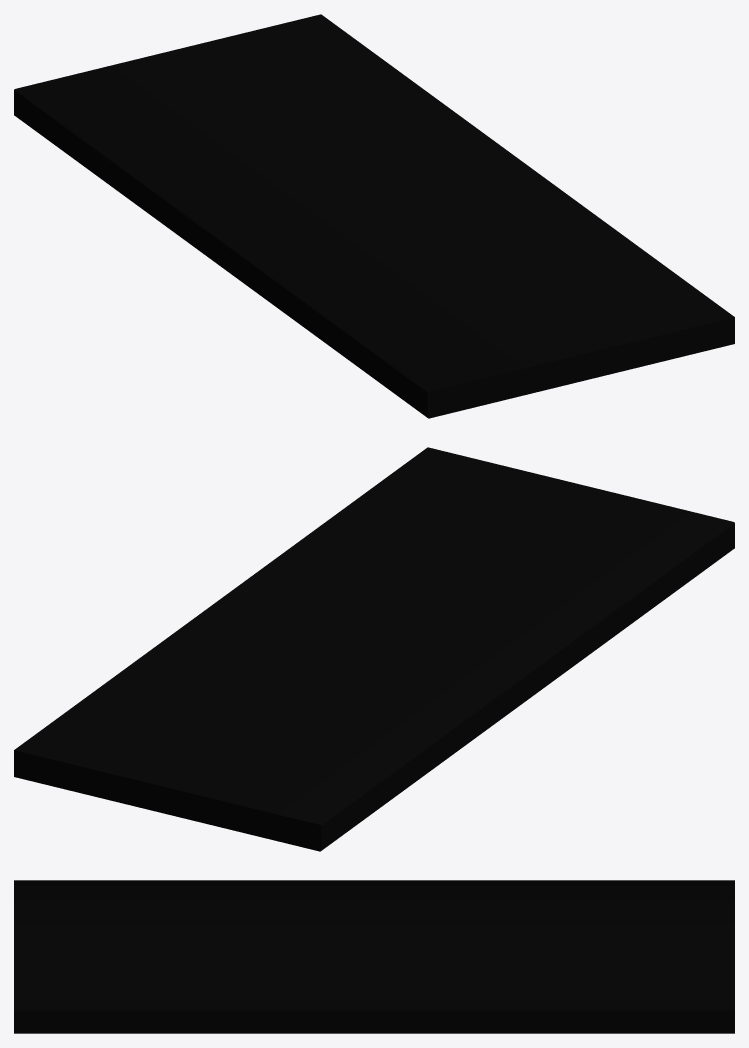
The picture shows the model from 3 angles, top to bottom: view 1: azimuth 30°, elevation 25°; view 2: azimuth 150°, elevation 25°; view 3: azimuth 270°, elevation 25°; orthographic projection. The views are drawn at different scales.
Parts seen in each view (by area): view 1: Joint_0_Object_0; view 2: Joint_0_Object_0; view 3: Joint_0_Object_0.
Part boxes in pixels (box(x1,y1,x2,y2)): Joint_0_Object_0: box(14, 14, 734, 418); Joint_0_Object_0: box(14, 447, 734, 851); Joint_0_Object_0: box(14, 880, 734, 1033).
Bounding box in the file's own units: 2400 × 200 × 5600.
1 material, 1 textured.
